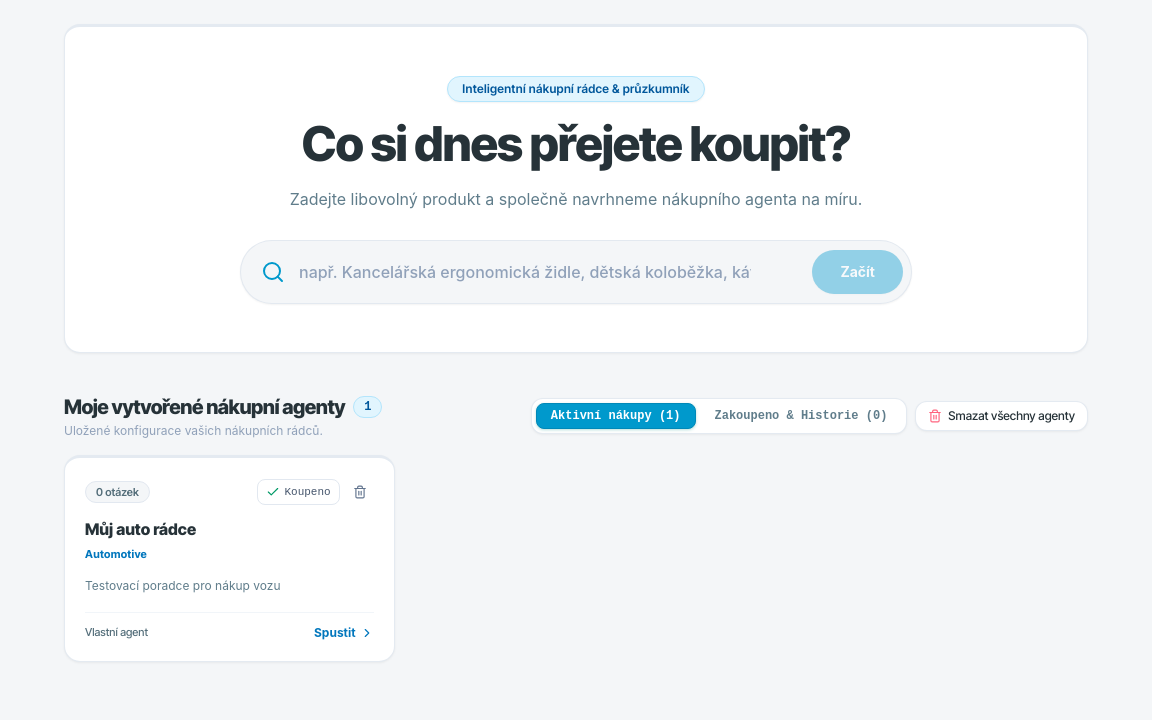
it: AgentCategoryLauncher Unit Test Suite (PRD v1) › 7. Nezobrazuje žádné výchozí agenty a čistě spravuje pouze uživatelem vytvořené agenty
Expected: the heading "Můj auto rádce" is shown, top-left (85, 519), bottom-right (196, 539)
Smazání agenta otevře bAIright ConfirmModal
Click the button titled "Smazat agenta z knihovny".
click(360, 492)  # box top-left (346, 478), bottom-right (374, 506)
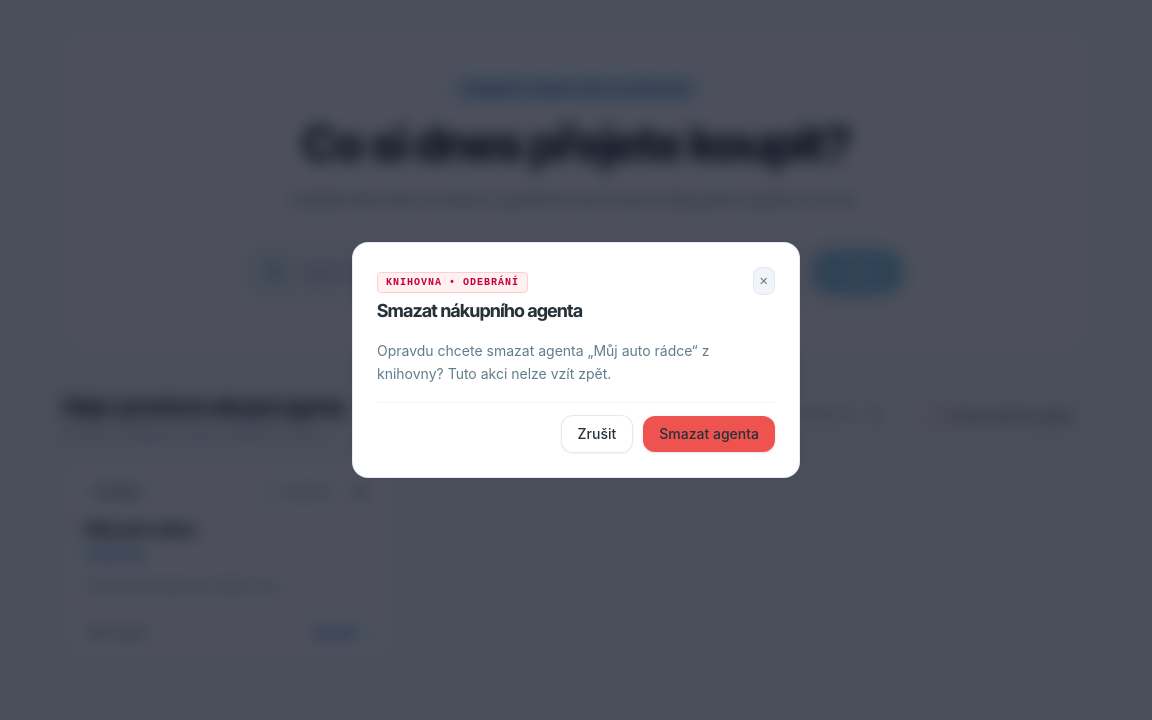
Potvrzení smazání ve vlastním ConfirmModal
Click the button "Smazat agenta".
click(709, 434)  # box top-left (643, 416), bottom-right (775, 452)
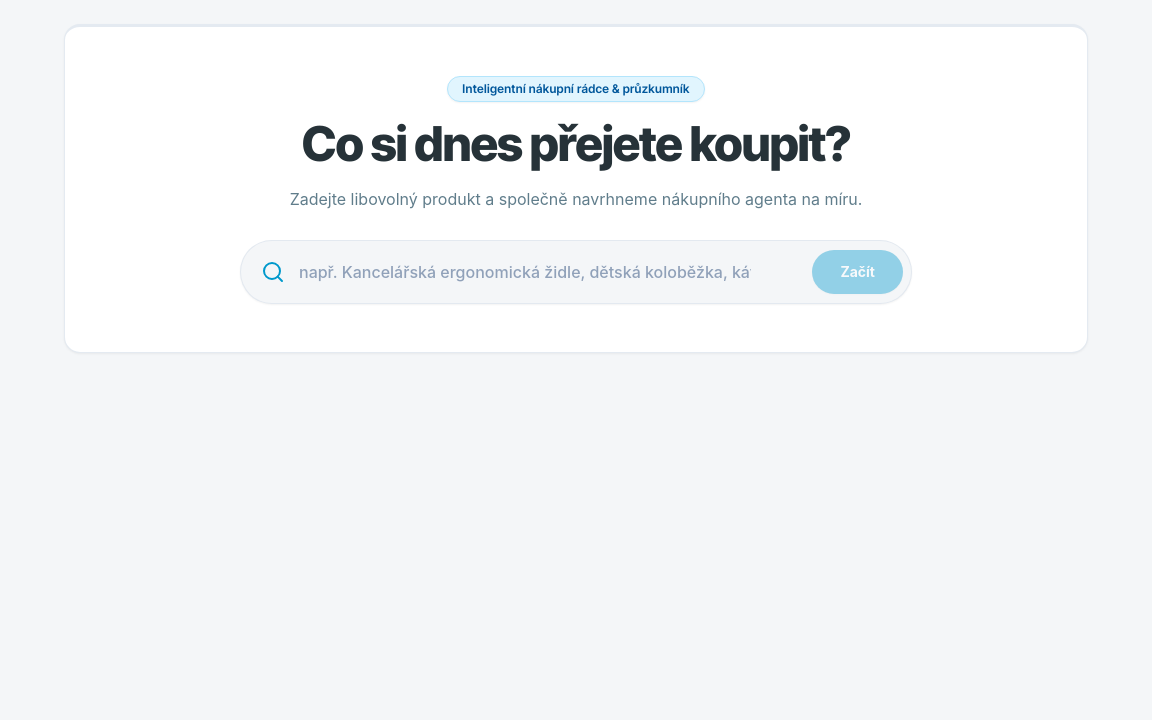
Expected: the heading "Můj auto rádce" is gone
